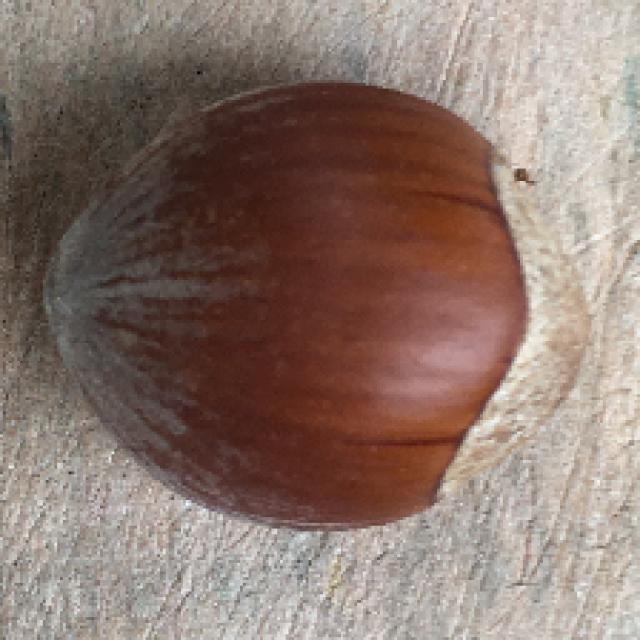hazelnut: (43, 67, 602, 545)
